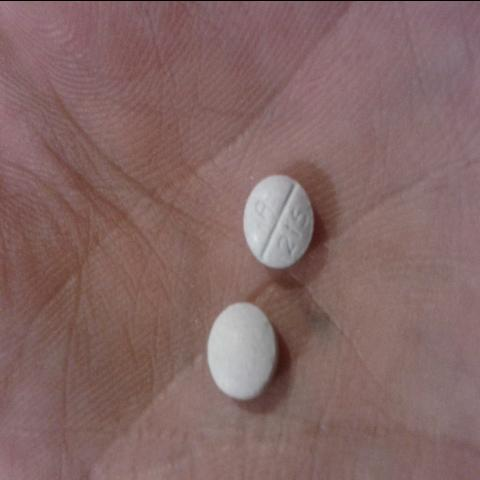Pill: (225, 148, 344, 282), (176, 286, 301, 410)
